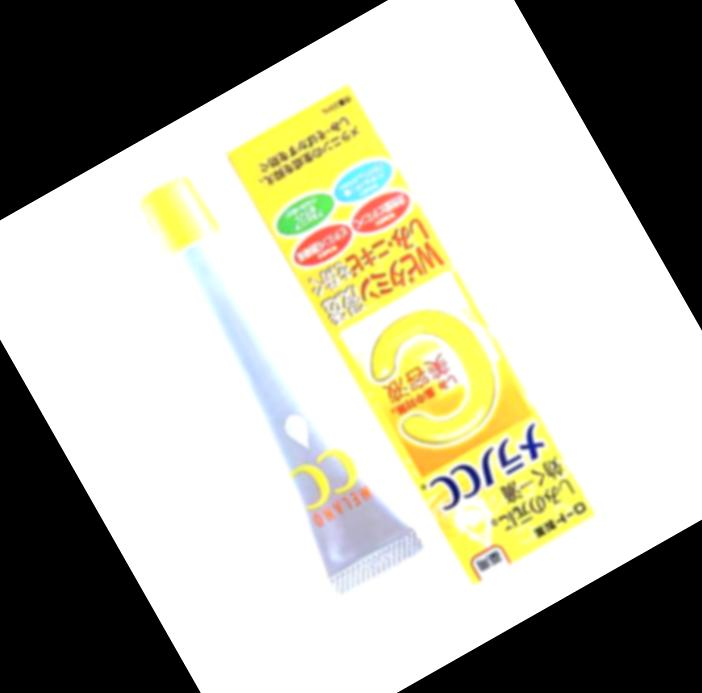cosmetic: (119, 158, 430, 598)
